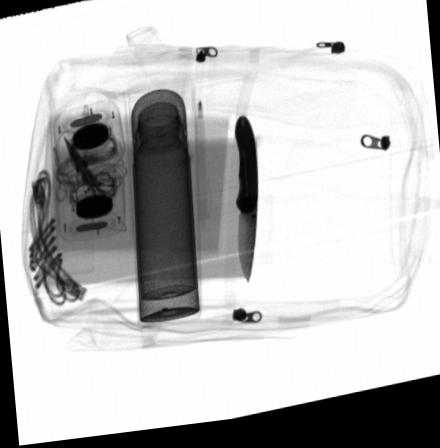Knife: (234, 122, 258, 291)
Scissors: (64, 138, 115, 214)
